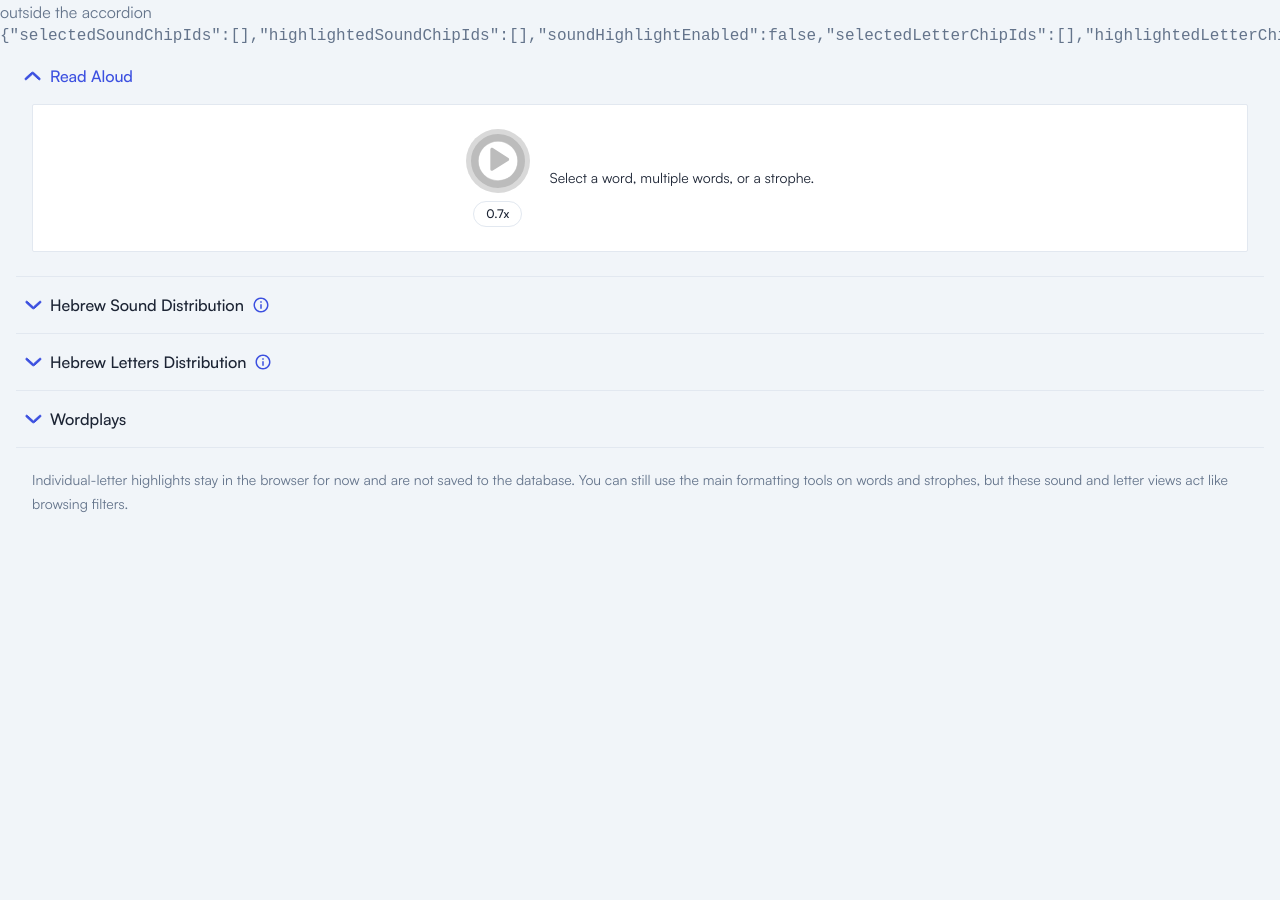
Test: tooltip modal — open / content / close › Hebrew Letters Distribution uses the shared blue info icon without toggling the section (127.5)
This screenshot has width=1280, height=900.
Click the button named "About letter distribution" at (263, 362), box [254,353,272,371]
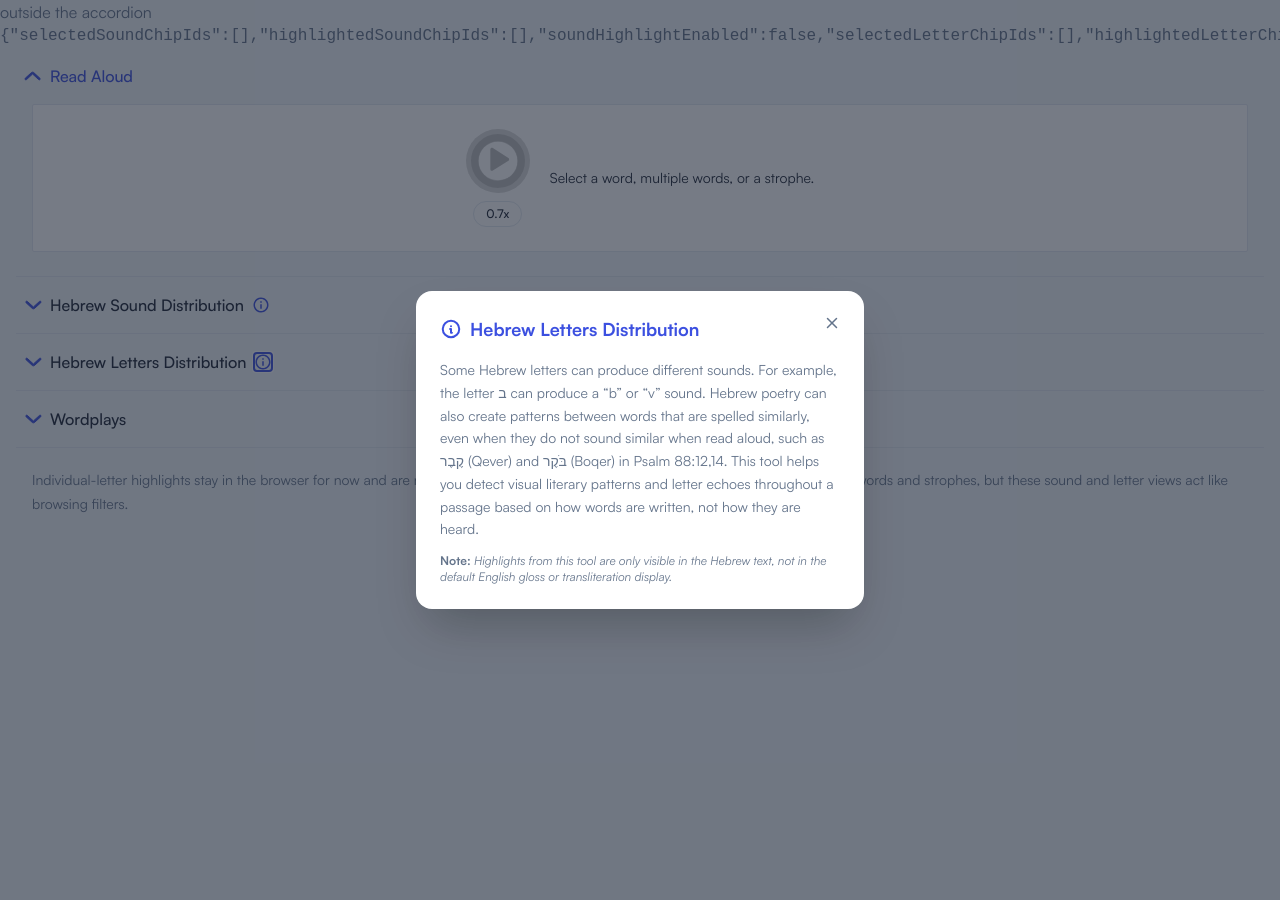
Expected: the dialog is shown
Click the button named "Close" at (832, 323), box [816,307,848,339]
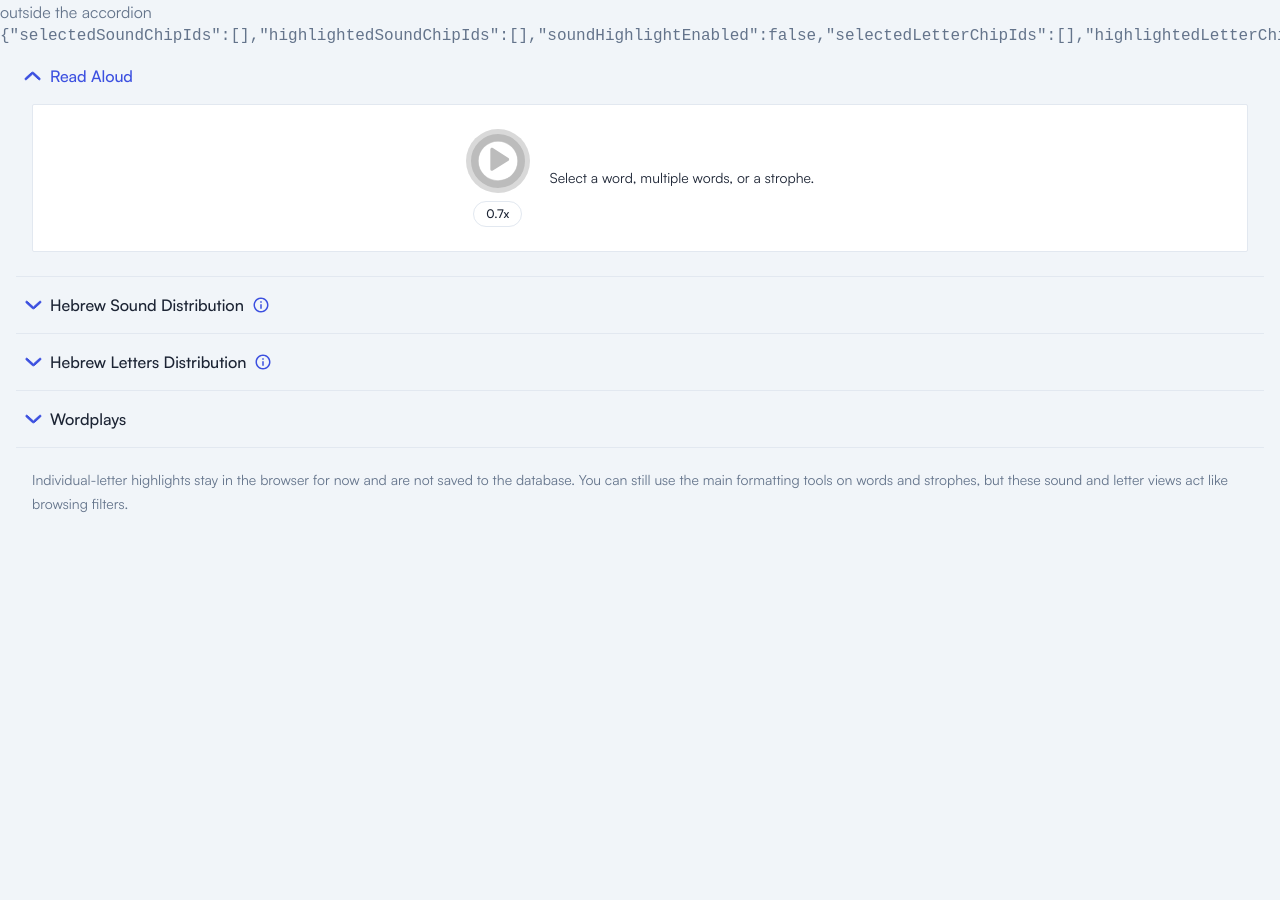
Click the button "Hebrew Letters Distribution" at (135, 362), box [24,350,246,374]
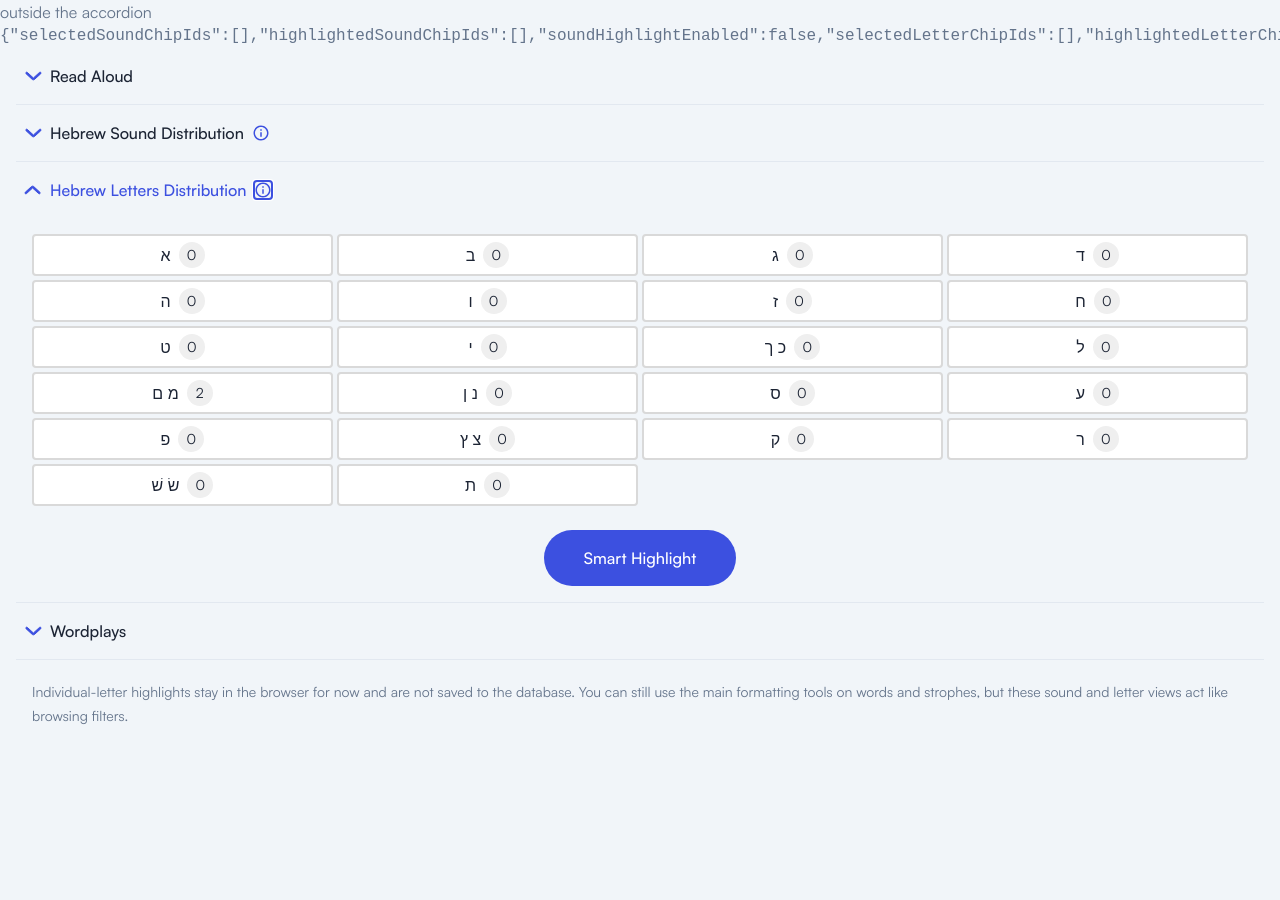
Expected: the button "Hebrew Letters Distribution" is expanded, [24,178,246,202]
Press Enter
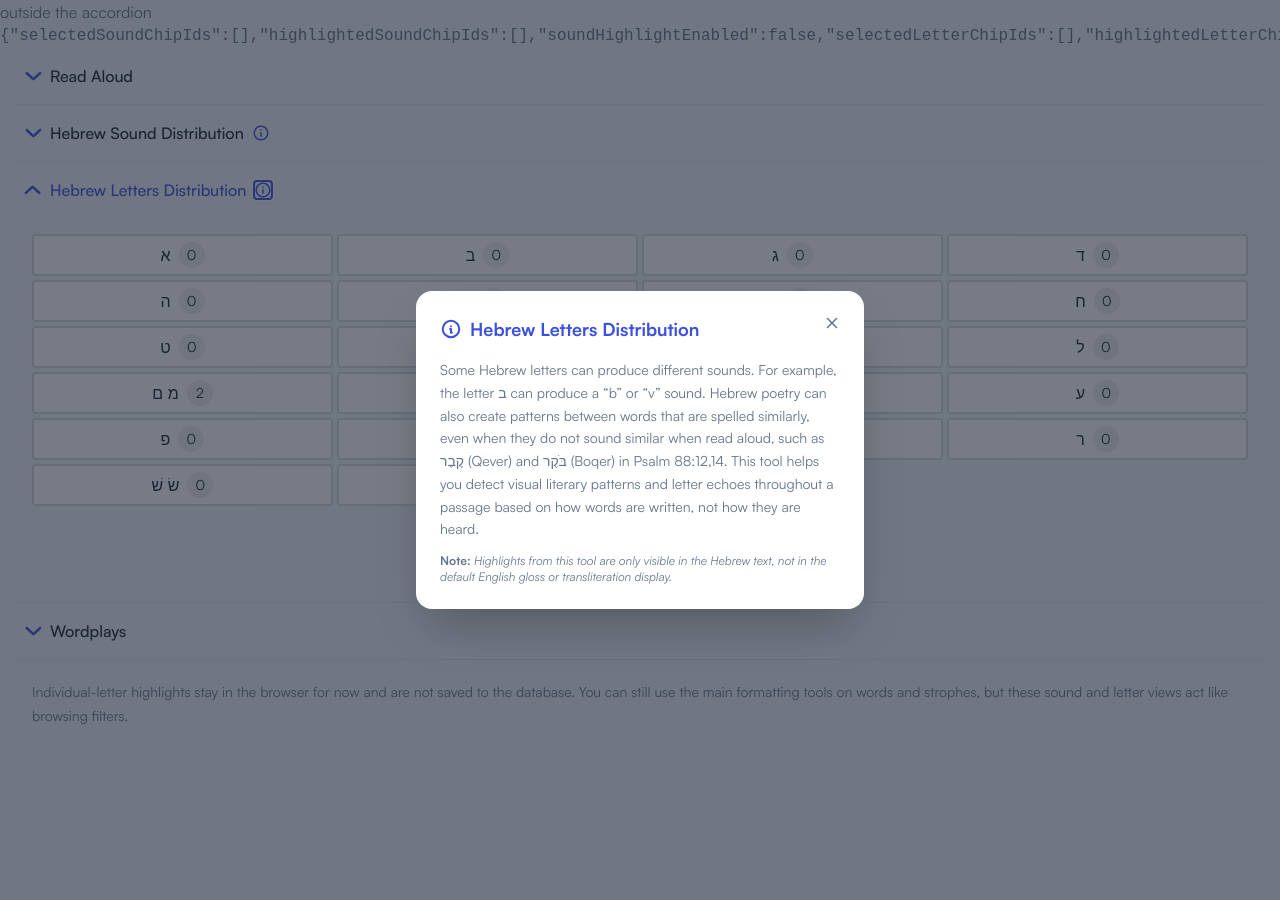
Expected: the button "Hebrew Letters Distribution" is expanded, [24,178,246,202]
Expected: the dialog is shown
Press Escape
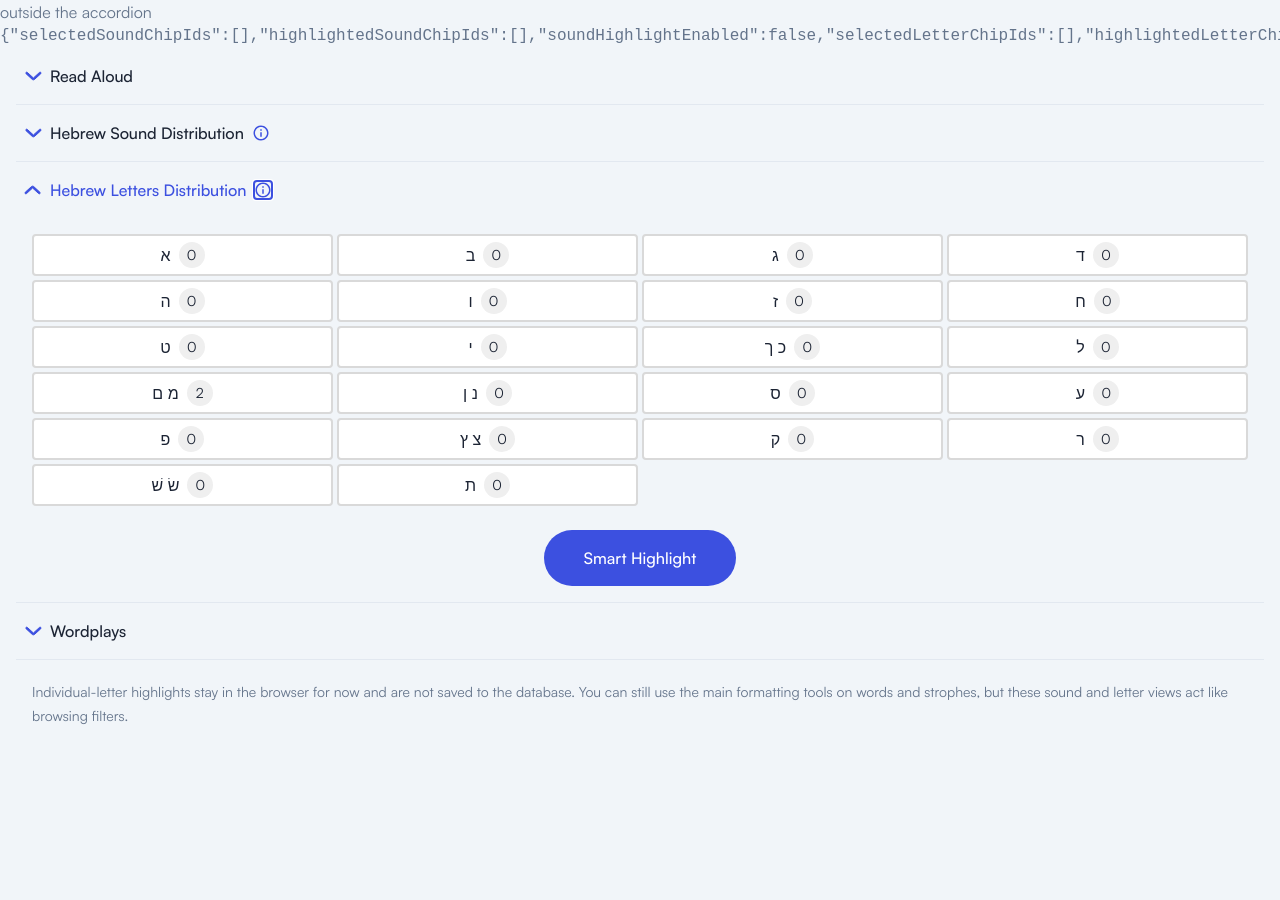
Expected: the button "Hebrew Letters Distribution" is expanded, [24,178,246,202]
Expected: the dialog is gone
